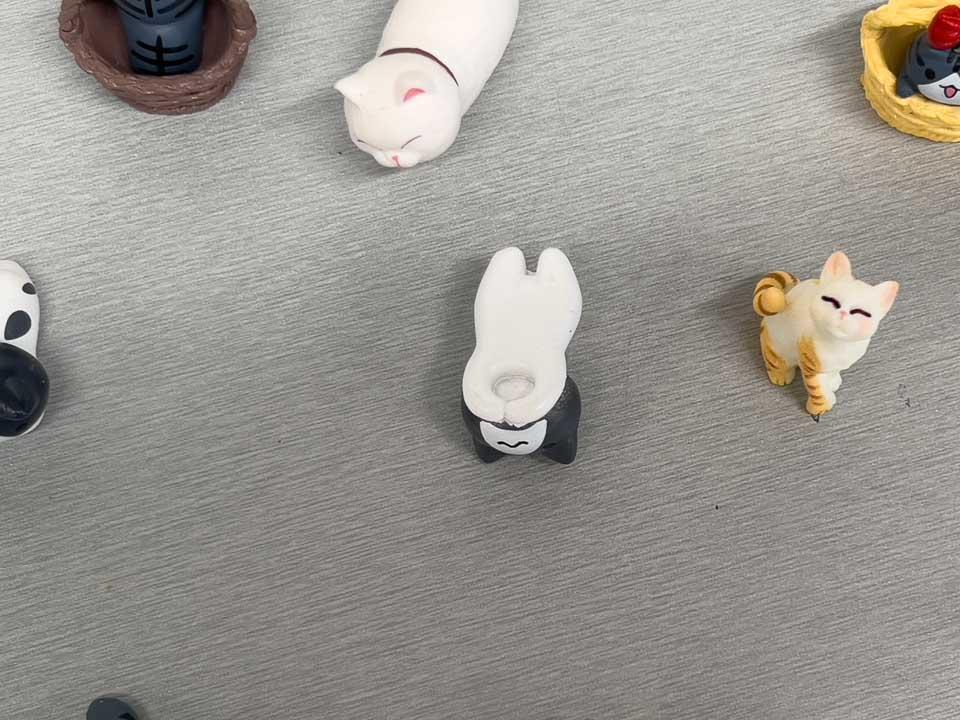pet: (316, 0, 550, 195), (442, 225, 604, 494), (737, 248, 908, 443), (880, 0, 960, 132)
